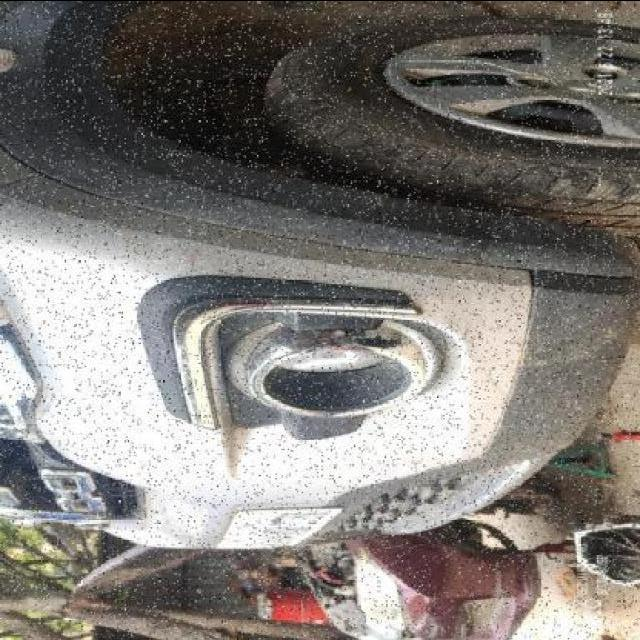front-bumper-dent: (380, 263, 630, 477)
